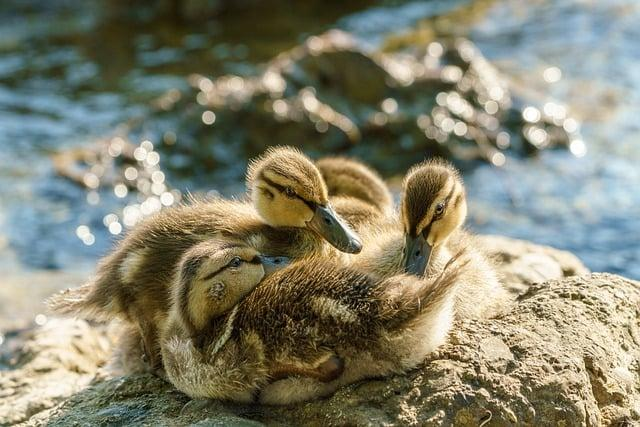Non_Gorille: (99, 48, 509, 425)
